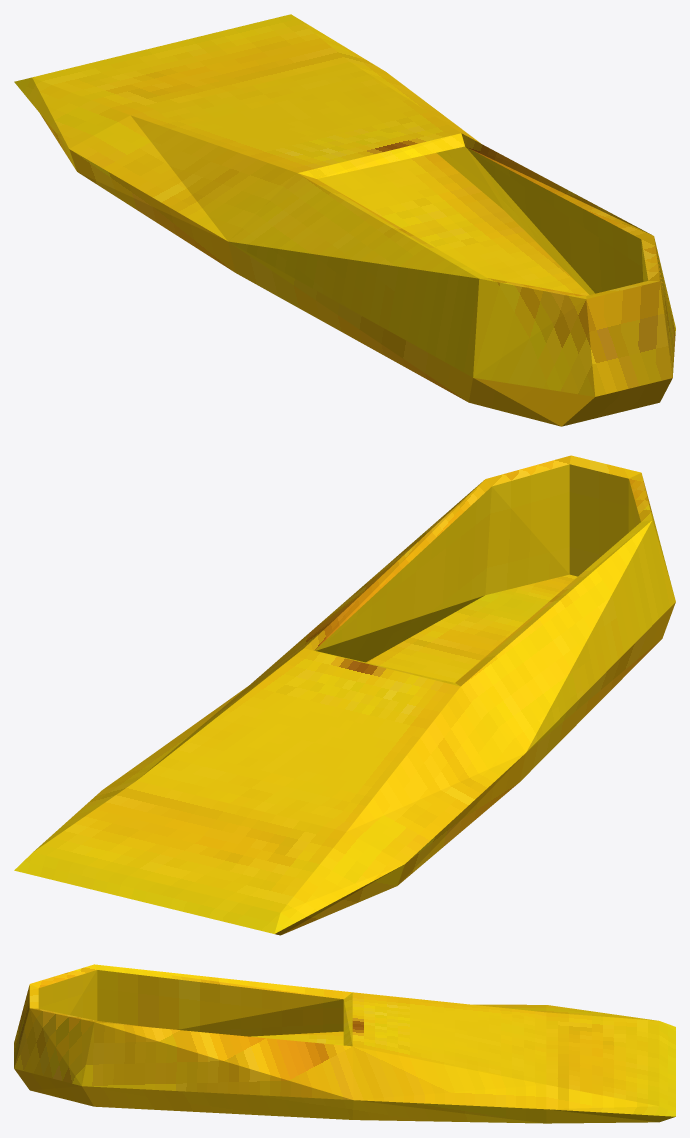
File: SwimmingFin01Lft.obj
3 renders of one model, top to bottom at view 1: azimuth 30°, elevation 25°; view 2: azimuth 150°, elevation 25°; view 3: azimuth 270°, elevation 25°, orthographic. The views are drawn at different scales.
Parts seen in each view (by area): view 1: SwimmingFin01Lft; view 2: SwimmingFin01Lft; view 3: SwimmingFin01Lft.
Boxes of the visible parts, x1,y1,x2,y2 form: SwimmingFin01Lft: (14, 14, 675, 426); SwimmingFin01Lft: (14, 455, 675, 935); SwimmingFin01Lft: (14, 964, 675, 1123).
Bounding box in the file's own units: 0.5367 × 0.1967 × 1.44.
